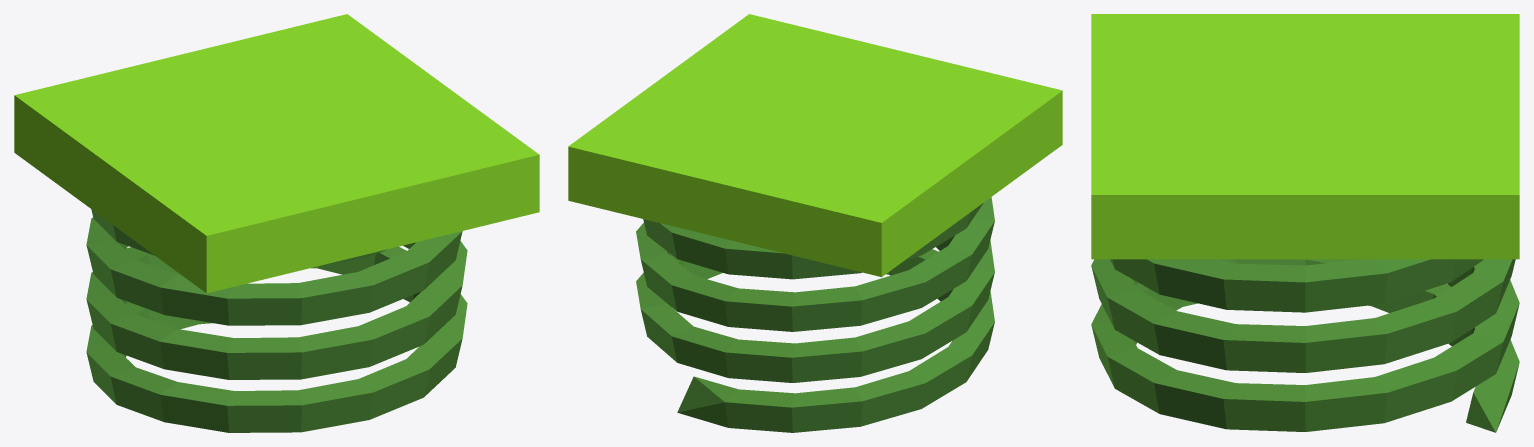
Rendered from TrapNew.fbx.
The picture shows the model from 3 angles, left to right: view 1: azimuth 30°, elevation 25°; view 2: azimuth 150°, elevation 25°; view 3: azimuth 270°, elevation 25°; orthographic projection. The views are drawn at different scales.
Visible parts, largest first — view 1: Cylinder; view 2: Cylinder; view 3: Cylinder.
Part boxes in pixels (x1,y1,x2,y2): Cylinder: (14,14,539,432); Cylinder: (568,14,1062,432); Cylinder: (1091,14,1519,432).
Bounding box in the file's own units: 326 × 248 × 326.
